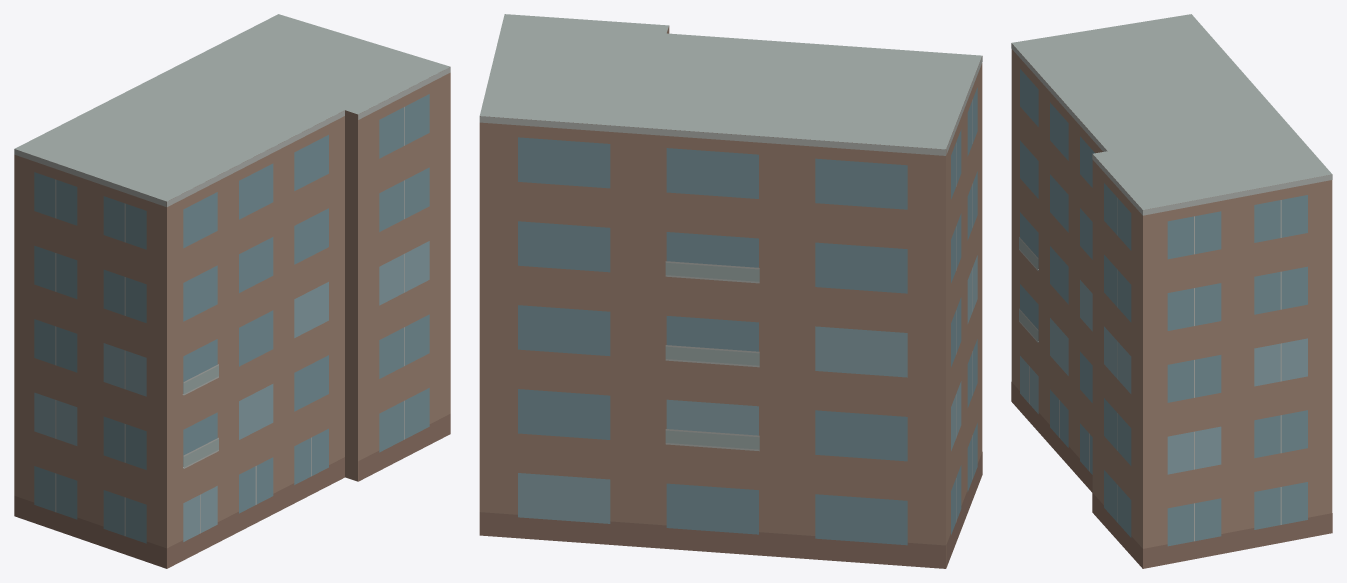
The model's file is survey-upis-32851561.glb.
3 views of the same model, side by side, from view 1: azimuth 30°, elevation 25°; view 2: azimuth 150°, elevation 25°; view 3: azimuth 270°, elevation 25° (orthographic). The views are drawn at different scales.
Visible parts, largest first — view 1: survey-upis-32851561.tmp; view 2: survey-upis-32851561.tmp; view 3: survey-upis-32851561.tmp.
Part boxes in pixels (left/top/right/bottom): survey-upis-32851561.tmp: left=14, top=14, right=450, bottom=568; survey-upis-32851561.tmp: left=479, top=14, right=982, bottom=568; survey-upis-32851561.tmp: left=1011, top=14, right=1332, bottom=568.
Bounding box in the file's own units: 18.42 × 15.7 × 12.74.
